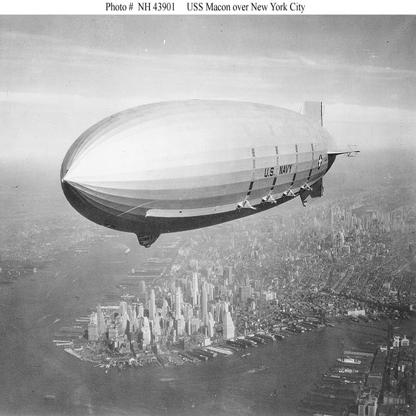Airship: (54, 96, 364, 248)
